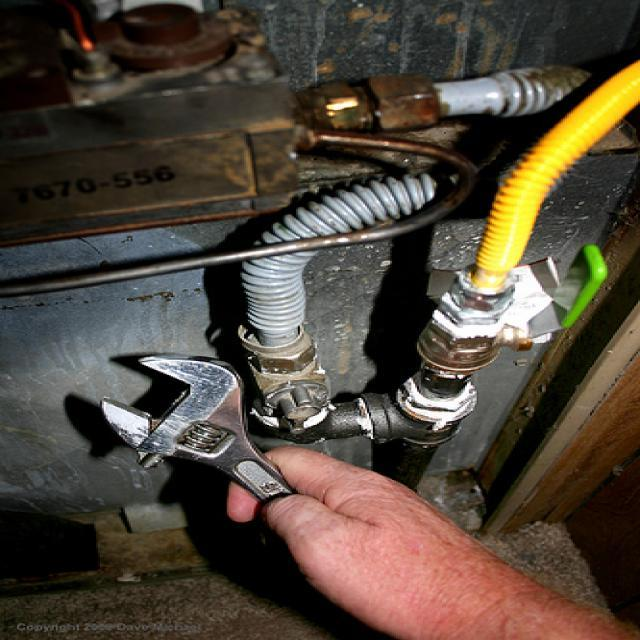wrench: (90, 344, 314, 514)
